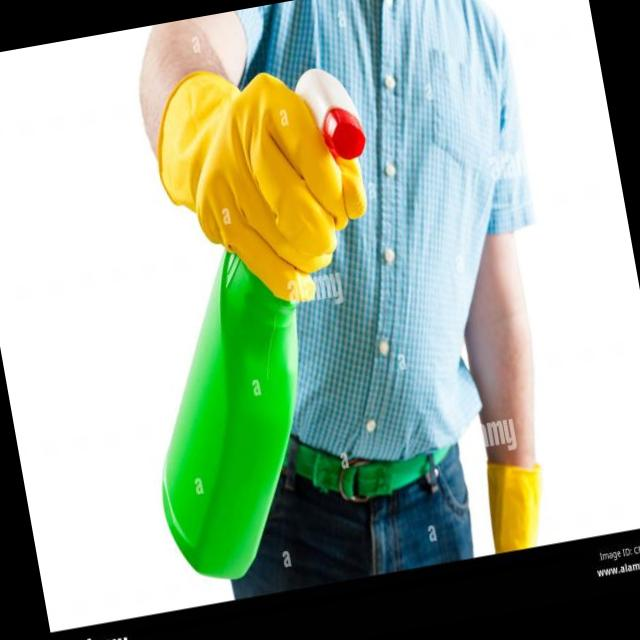Gloves: (144, 49, 408, 333)
